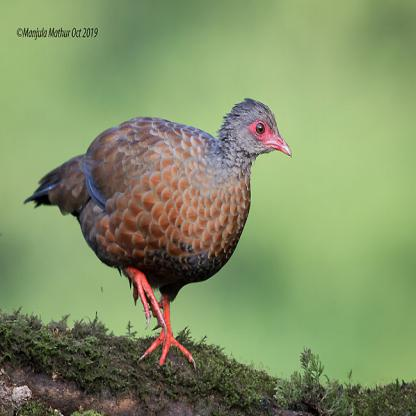Burung: (23, 97, 292, 380)
